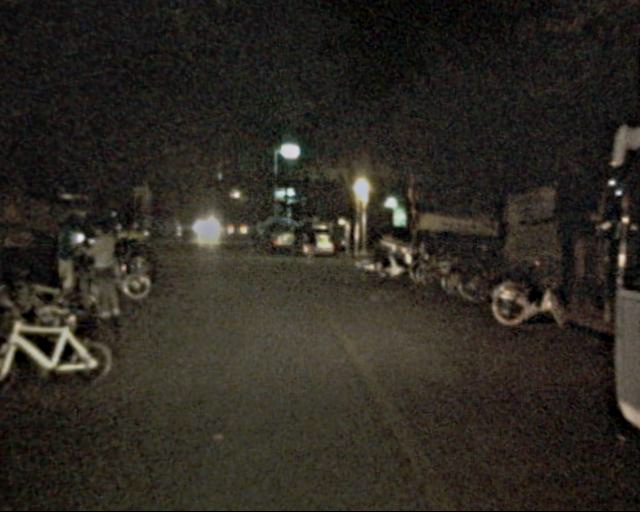person: (84, 219, 126, 321), (301, 225, 319, 264), (247, 225, 260, 256)
